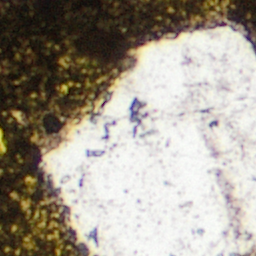cement_matrix: (0, 0, 255, 255), (130, 100, 143, 123)
cracks: (0, 133, 1, 146)
gravel_crushed_stones: (41, 22, 255, 255), (129, 99, 144, 124)
